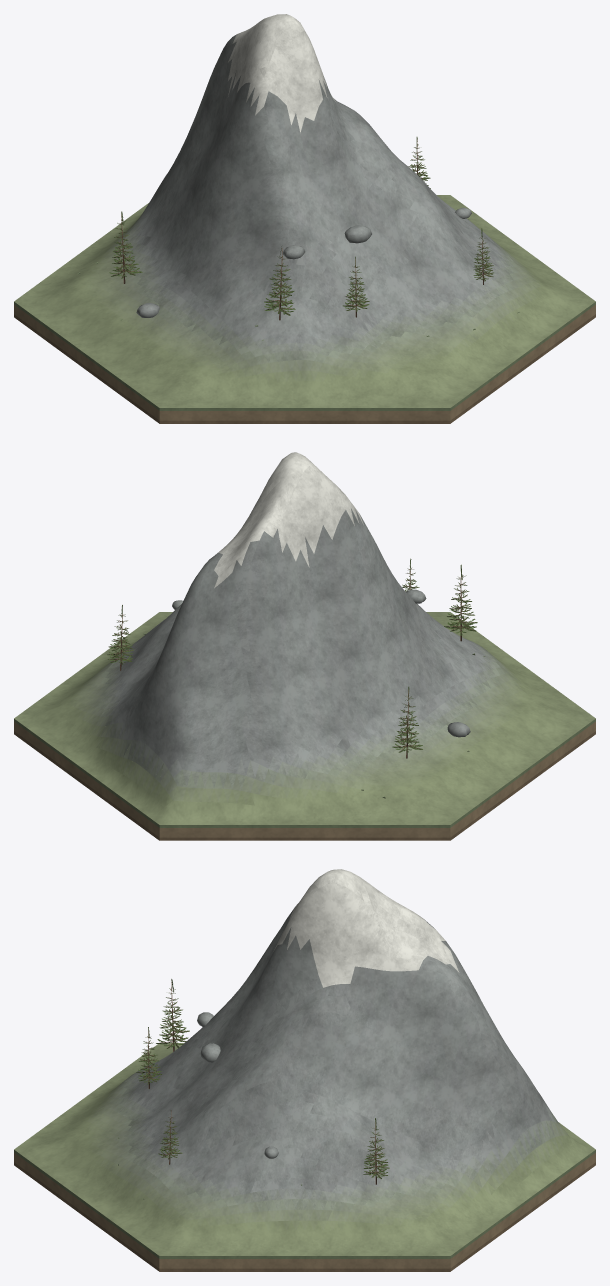
Rendered from montana.glb.
3 views of the same model, one above another, from view 1: azimuth 30°, elevation 25°; view 2: azimuth 150°, elevation 25°; view 3: azimuth 270°, elevation 25° (orthographic).
Visible parts, largest first — view 1: montana.010 / 2, montana.010 / 0, montana.010 / 5, montana.010 / 1; view 2: montana.010 / 2, montana.010 / 0, montana.010 / 5, montana.010 / 1; view 3: montana.010 / 2, montana.010 / 0, montana.010 / 5, montana.010 / 1.
Part boxes in pixels (bbox=[...]): montana.010 / 2: bbox=[123, 14, 513, 362]; montana.010 / 0: bbox=[14, 195, 595, 423]; montana.010 / 5: bbox=[109, 137, 493, 315]; montana.010 / 1: bbox=[113, 139, 492, 320]; montana.010 / 2: bbox=[100, 452, 500, 790]; montana.010 / 0: bbox=[14, 612, 595, 840]; montana.010 / 5: bbox=[107, 558, 477, 752]; montana.010 / 1: bbox=[109, 568, 475, 758]; montana.010 / 2: bbox=[119, 869, 559, 1211]; montana.010 / 0: bbox=[14, 1043, 595, 1271]; montana.010 / 5: bbox=[136, 979, 389, 1178]; montana.010 / 1: bbox=[139, 982, 387, 1184].
Bounding box in the file's own units: 3.46 × 2.21 × 4.
Materials: 4 (4 with a texture image).
